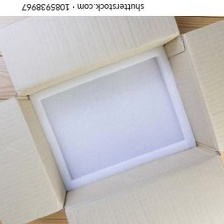foam_box: (24, 41, 202, 196)
